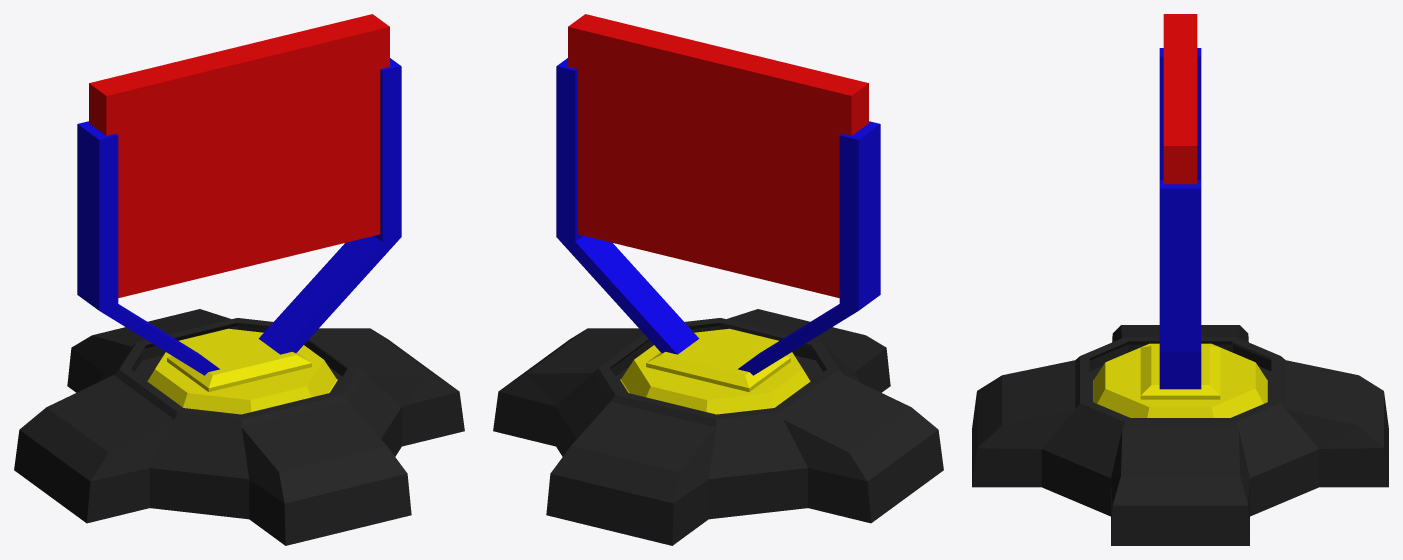
File: DoubleMirror 2.fbx
3 views of the same model, side by side, from view 1: azimuth 30°, elevation 25°; view 2: azimuth 150°, elevation 25°; view 3: azimuth 270°, elevation 25° (orthographic). The views are drawn at different scales.
Visible parts, largest first — view 1: Base, Branch, truc, RotateBase; view 2: Base, Branch, truc, RotateBase; view 3: Base, truc, RotateBase, Branch.
Part boxes in pixels (x1,y1,x2,y2): Base: [14, 309, 464, 545]; Branch: [89, 14, 389, 297]; truc: [77, 58, 401, 375]; RotateBase: [147, 328, 337, 414]; Base: [493, 309, 943, 545]; Branch: [568, 14, 868, 297]; truc: [556, 58, 880, 375]; RotateBase: [620, 328, 810, 414]; Base: [972, 325, 1388, 545]; truc: [1159, 48, 1201, 389]; RotateBase: [1093, 343, 1267, 417]; Branch: [1163, 14, 1197, 184].
Bounding box in the file's own units: 100 × 100 × 100.
